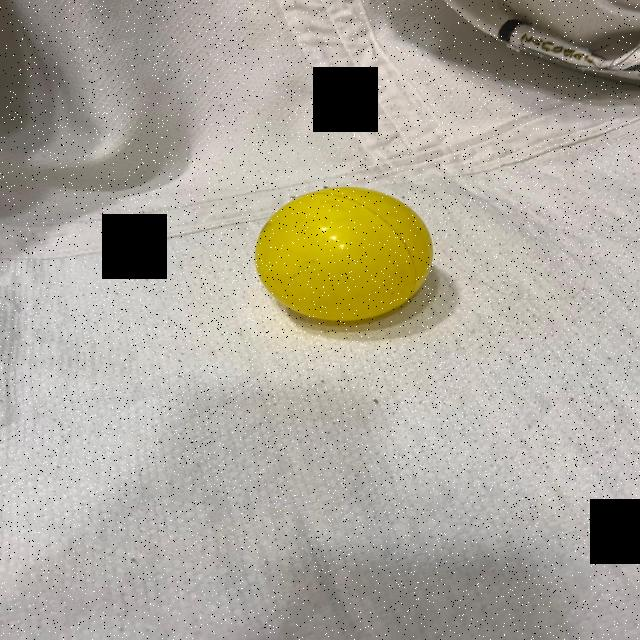ball: (255, 184, 436, 322)
